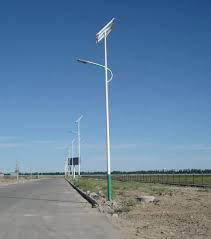light_pole: (98, 29, 116, 201)
